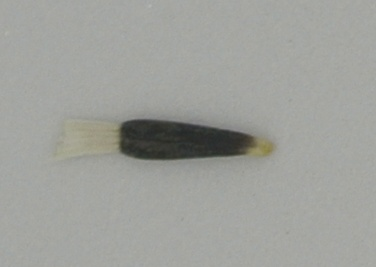เมล็ดดีติดกัน: (53, 112, 282, 170)
